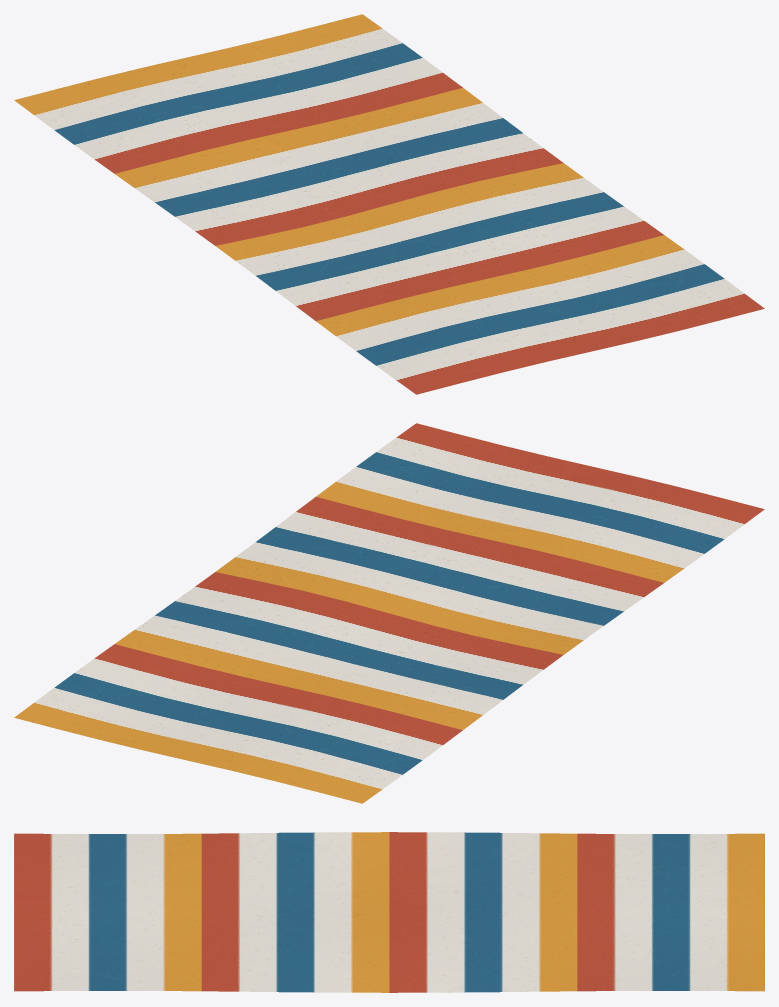
The model's file is p-telo.glb.
3 views of the same model, one above another, from view 1: azimuth 30°, elevation 25°; view 2: azimuth 150°, elevation 25°; view 3: azimuth 270°, elevation 25° (orthographic). The views are drawn at different scales.
Bounding box in the file's own units: 0.8501 × 0.00747 × 1.7.
Materials: 1 (1 with a texture image).
